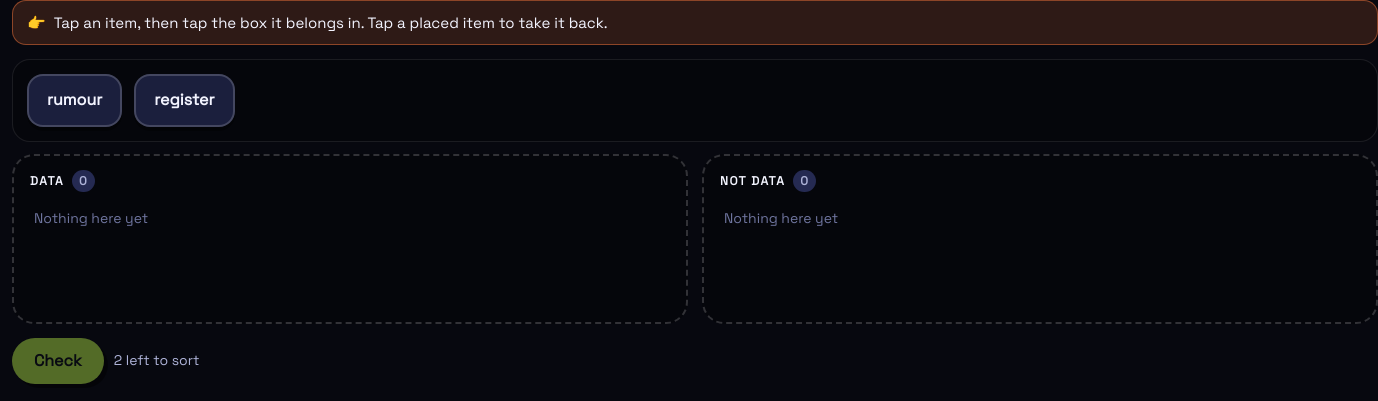
Test: activity widgets › SortInto: a placed item goes back to the tray, and a box still takes a drop on top of one
The image size is (1378, 401).
Click the button "register": (184, 101) x1=134 y1=74 x2=234 y2=127
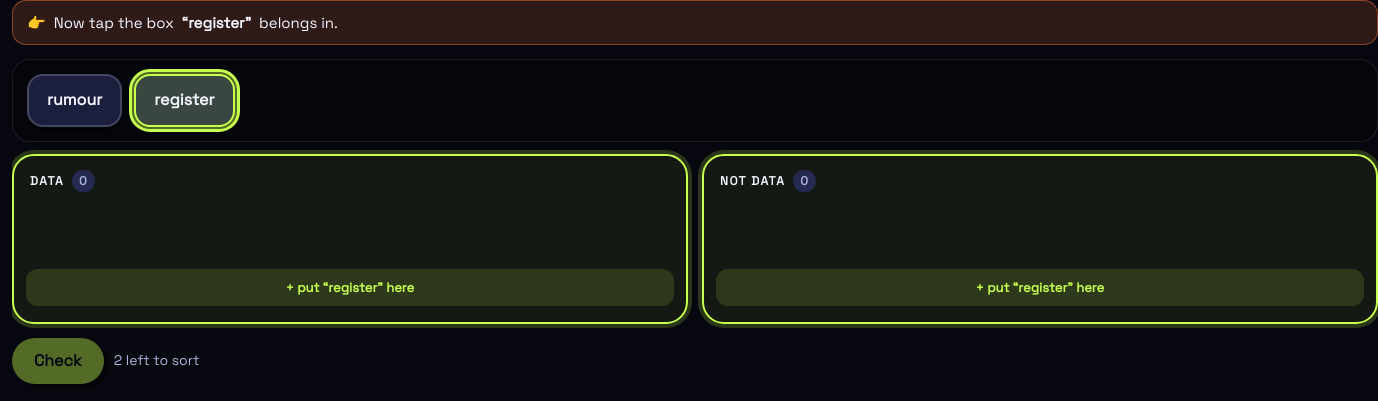
Click the button with aria-label "Put in Data": (47, 181) x1=12 y1=154 x2=688 y2=324
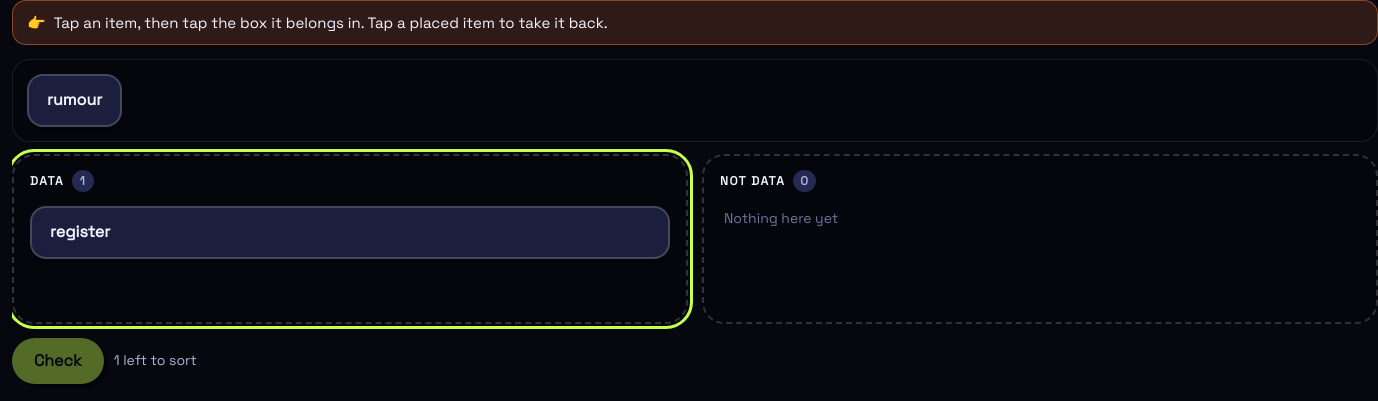
Now the button with aria-label "Put in Data" shows "register", box x1=12 y1=154 x2=688 y2=324
// with another item picked, clicking the placed pill means "drop it in this box" — the pill is the box
Click the button "rumour": (75, 101) x1=27 y1=74 x2=122 y2=127
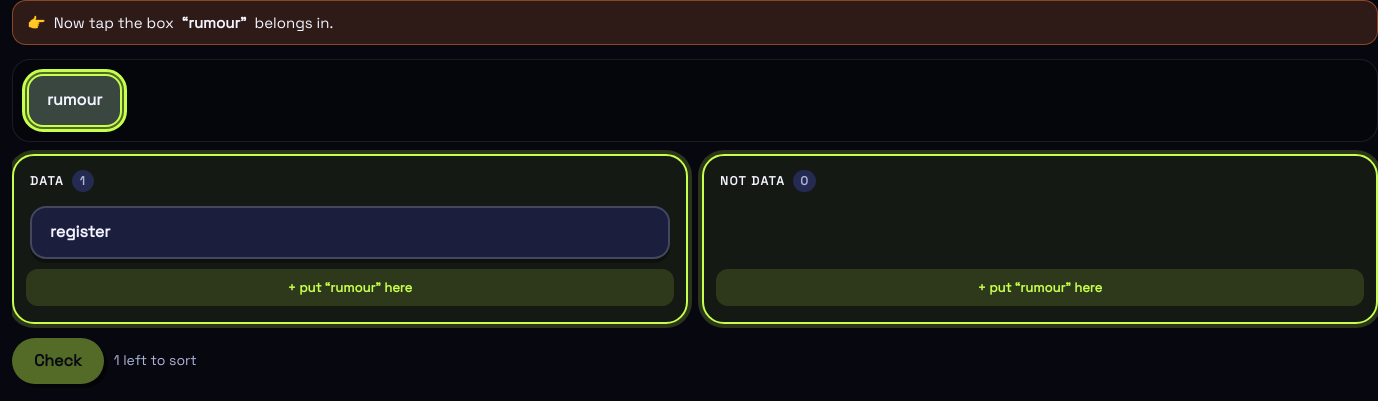
Click the button "register": (80, 232) x1=30 y1=206 x2=670 y2=259
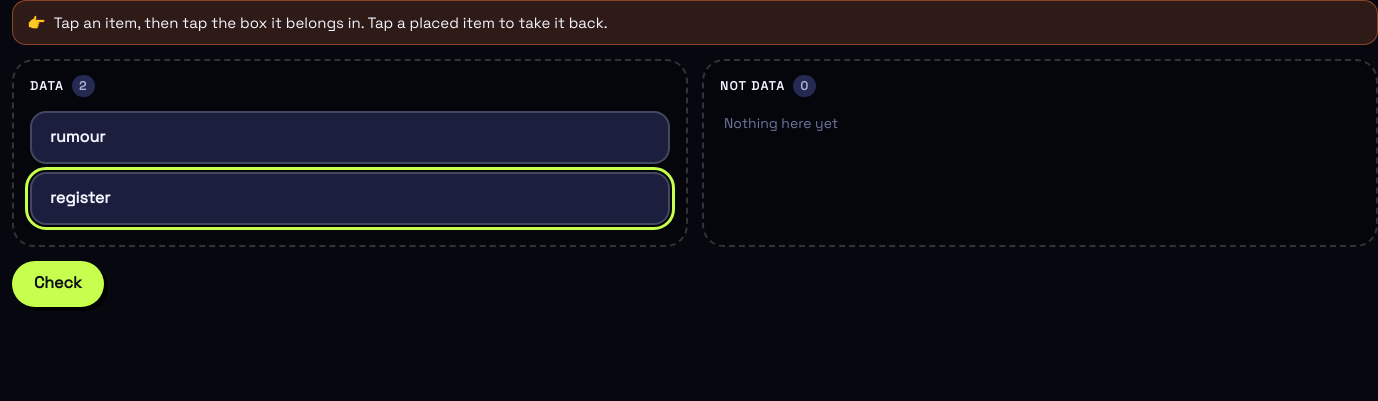
Now the button with aria-label "Put in Data" shows "rumour", box x1=12 y1=59 x2=688 y2=247
Now the button with aria-label "Put in Data" shows "register", box x1=12 y1=59 x2=688 y2=247
// with nothing picked, the same pill takes the item back out (the bucket must not re-place it)
Click the button "register": (80, 198) x1=30 y1=172 x2=670 y2=225
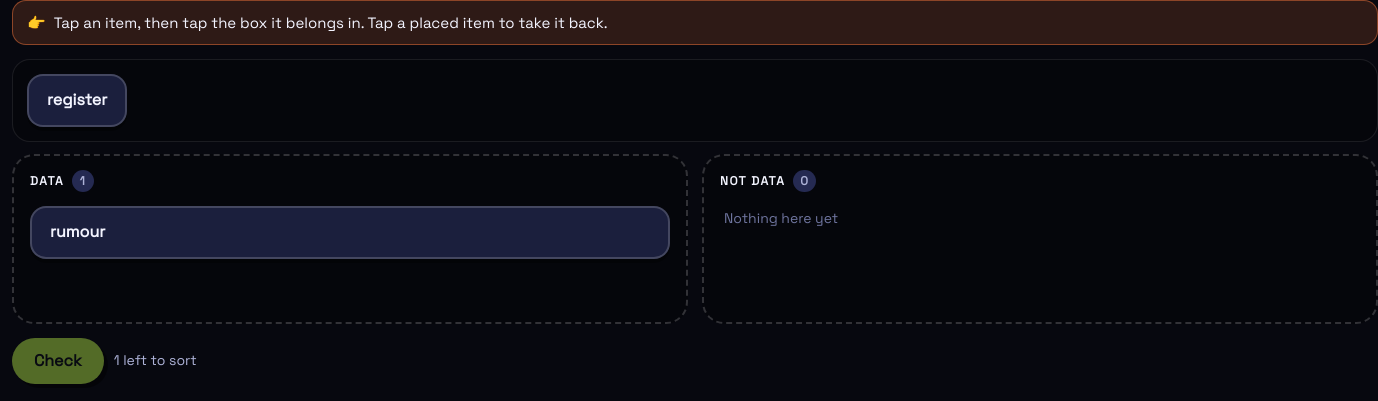
Now the element named "Items to sort" reads "register", box x1=27 y1=74 x2=127 y2=127
Now the button "Put in Data" no longer shows "register"
